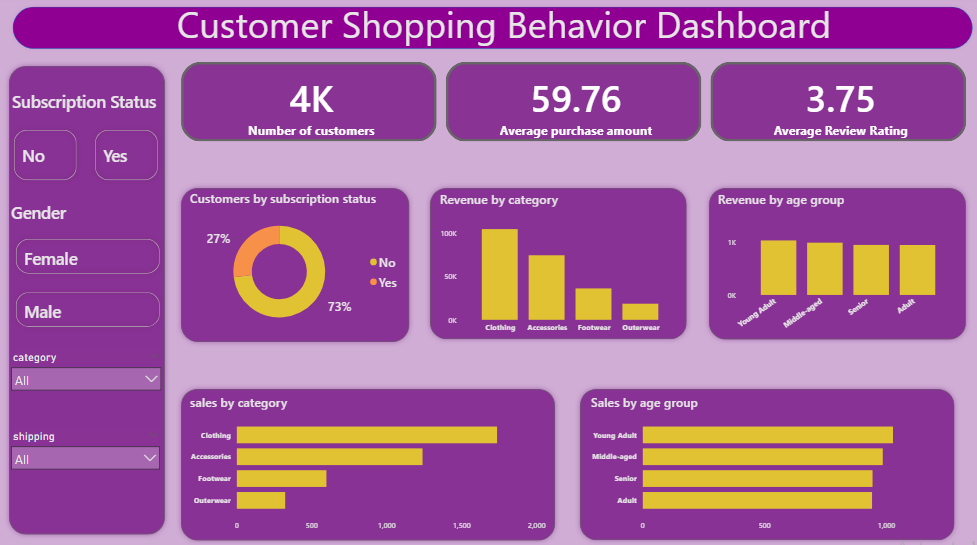

What the dashboard file says about the page in this screenshot:
{"tool":"powerbi","page":{"name":"Page 1","canvas":[1600,900],"ordinal":0},"visuals":[{"type":"cardVisual","fields":{"Data":["_Measures.Number of customers","_Measures.Average purchase amount","_Measures.Average Review Rating"]},"box":[292.9,101.4,1278.7,138.6],"z":0},{"type":"shape","box":[12.7,104.8,267.5,771.7],"z":1000},{"type":"shape","box":[290.8,300.9,384.3,264.6],"z":2000},{"type":"shape","box":[691.9,300.9,430,260],"z":3000},{"type":"shape","box":[290.8,626.4,619.4,260.4],"z":4000},{"type":"shape","box":[1141.2,300.9,430.4,260.4],"z":5000},{"type":"shape","box":[933.4,626.4,620,260],"z":6000},{"type":"shape","box":[21,10.5,1560.1,79.8],"z":7000},{"type":"donutChart","title":"Customers by subscription status","fields":{"Category":["customer_shopping_data customers.subscription_status"],"Y":["_Measures.Number of customers"]},"box":[307.6,311.4,352.8,239.4],"z":8000},{"type":"columnChart","title":"Revenue by category","fields":{"Category":["customer_shopping_data customers.category"],"Y":["Sum(customer_shopping_data customers.purchase_amount)"]},"box":[711.8,312.9,394.8,239.4],"z":9000},{"type":"clusteredBarChart","title":"sales by category","fields":{"Y":["CountNonNull(customer_shopping_data customers.customer_id)"],"Category":["customer_shopping_data customers.category"]},"box":[307.6,641.1,583.7,231],"z":10000},{"type":"clusteredBarChart","title":"Sales by age group","fields":{"Y":["CountNonNull(customer_shopping_data customers.customer_id)"],"Category":["customer_shopping_data customers.age_group"]},"box":[954.3,641.1,579.5,231],"z":11000},{"type":"advancedSlicerVisual","fields":{"Values":["customer_shopping_data customers.gender"]},"box":[16.8,375.9,264.6,174.3],"z":12000},{"type":"clusteredColumnChart","title":"Revenue by age group","fields":{"Category":["customer_shopping_data customers.age_group"],"Y":["CountNonNull(customer_shopping_data customers.customer_id)"]},"box":[1160.1,313.5,392.7,237.3],"z":13000},{"type":"advancedSlicerVisual","fields":{"Values":["customer_shopping_data customers.subscription_status"]},"box":[12.6,199.5,264.6,113.4],"z":14000},{"type":"slicer","fields":{"Values":["customer_shopping_data customers.category"]},"box":[14.7,566.9,262.5,94.5],"z":15000},{"type":"slicer","fields":{"Values":["customer_shopping_data customers.shipping_type"]},"box":[14.7,692.9,260.4,90.3],"z":16000},{"type":"textbox","box":[21.7,146.4,260.2,47],"z":17000},{"type":"textbox","box":[18.9,325.5,260.4,46.2],"z":18000},{"type":"textbox","box":[38.6,0,1561.4,101.9],"z":19000}]}

Visuals, with their boxes in screenshot pixels (x1, y1, x2, y2), scaled from the page's 1600x900 canvas onto the 977x545 screenshot:
cardVisual - _Measures.Number of customers x _Measures.Average purchase amount: (x1=179, y1=61, x2=960, y2=145)
shape: (x1=8, y1=63, x2=171, y2=531)
shape: (x1=178, y1=182, x2=412, y2=342)
shape: (x1=422, y1=182, x2=685, y2=340)
shape: (x1=178, y1=379, x2=556, y2=537)
shape: (x1=697, y1=182, x2=960, y2=340)
shape: (x1=570, y1=379, x2=949, y2=537)
shape: (x1=13, y1=6, x2=965, y2=55)
"Customers by subscription status" donutChart: (x1=188, y1=189, x2=403, y2=334)
"Revenue by category" columnChart: (x1=435, y1=189, x2=676, y2=334)
"sales by category" clusteredBarChart: (x1=188, y1=388, x2=544, y2=528)
"Sales by age group" clusteredBarChart: (x1=583, y1=388, x2=937, y2=528)
advancedSlicerVisual - customer_shopping_data customers.gender: (x1=10, y1=228, x2=172, y2=333)
"Revenue by age group" clusteredColumnChart: (x1=708, y1=190, x2=948, y2=334)
advancedSlicerVisual - customer_shopping_data customers.subscription_status: (x1=8, y1=121, x2=169, y2=189)
slicer - customer_shopping_data customers.category: (x1=9, y1=343, x2=169, y2=401)
slicer - customer_shopping_data customers.shipping_type: (x1=9, y1=420, x2=168, y2=474)
textbox: (x1=13, y1=89, x2=172, y2=117)
textbox: (x1=12, y1=197, x2=171, y2=225)
textbox: (x1=24, y1=0, x2=976, y2=62)
